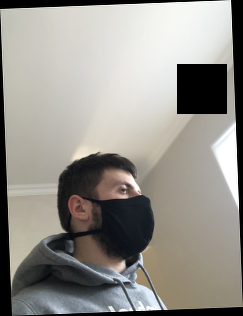with_mask: (90, 177, 155, 259)
